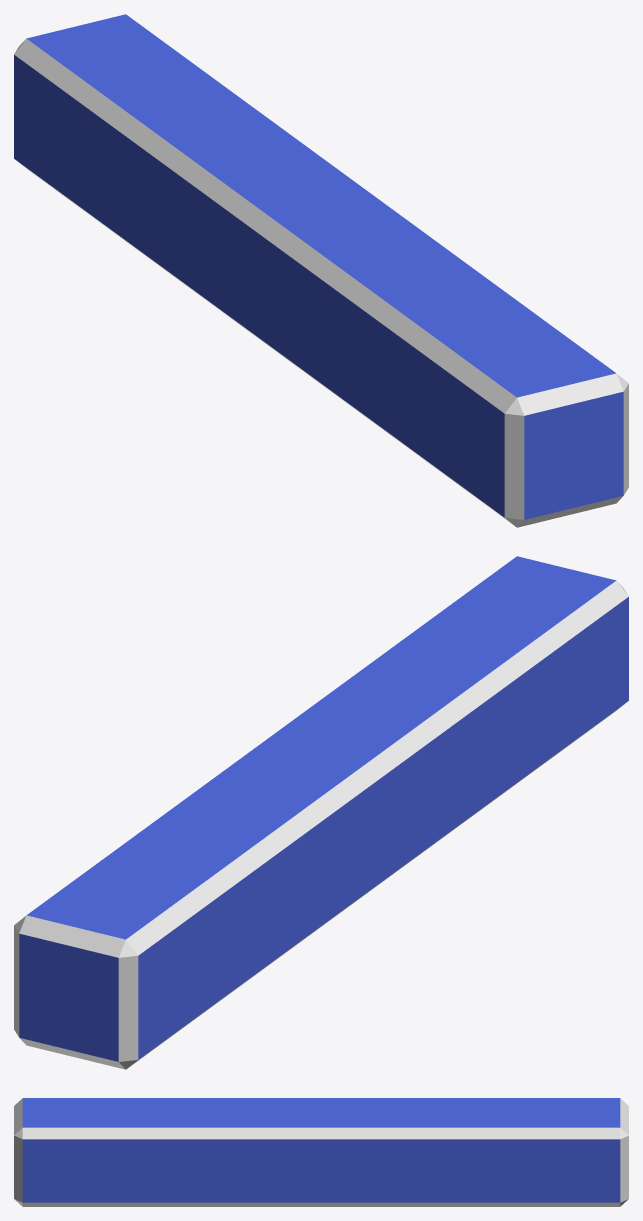
File: Zid 1x7.fbx
3 views of the same model, one above another, from view 1: azimuth 30°, elevation 25°; view 2: azimuth 150°, elevation 25°; view 3: azimuth 270°, elevation 25° (orthographic). The views are drawn at different scales.
Visible parts, largest first — view 1: Cube.015; view 2: Cube.015; view 3: Cube.015.
Boxes of the visible parts, x1,y1,x2,y2 form: Cube.015: (14,14,628,527); Cube.015: (14,556,628,1069); Cube.015: (14,1098,628,1206).
Bounding box in the file's own units: 1 × 1 × 7.03.
